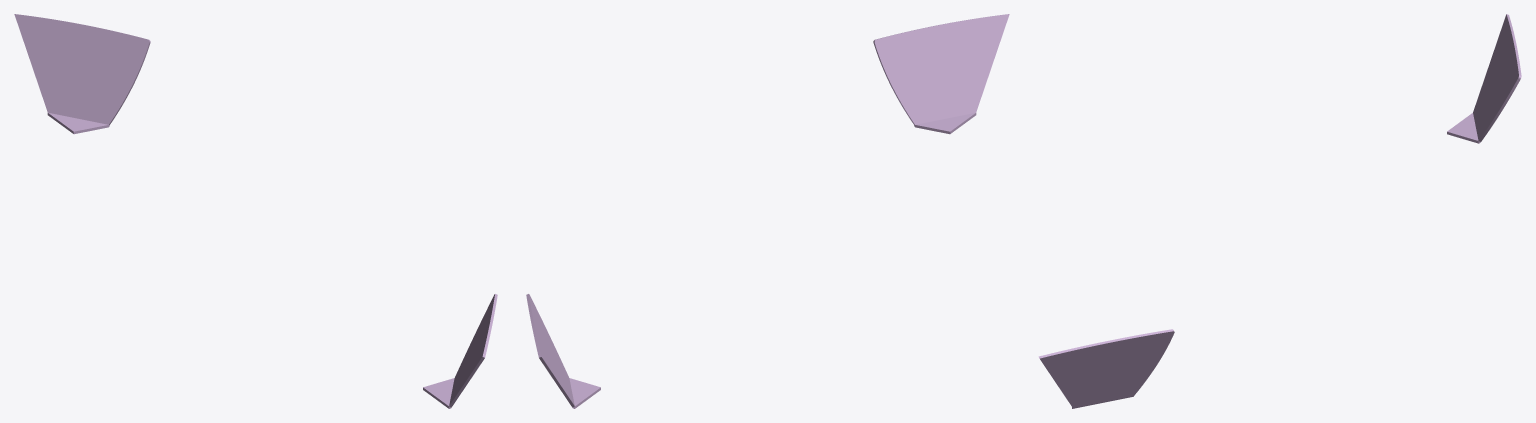
File: OUTFITTING_INTERIOR___ugly corner_ options__small corner box.glb
3 renders of one model, left to right at view 1: azimuth 30°, elevation 25°; view 2: azimuth 150°, elevation 25°; view 3: azimuth 330°, elevation 25°, orthographic.
Visible parts, largest first — view 1: small corner box; view 2: small corner box; view 3: small corner box.
Part boxes in pixels (x1,y1,x2,y2): small corner box: (14,14,497,408); small corner box: (526,14,1009,408); small corner box: (1038,14,1521,408).
Size of the model in its own units: 0.3877 by 0.3885 by 4.18.
